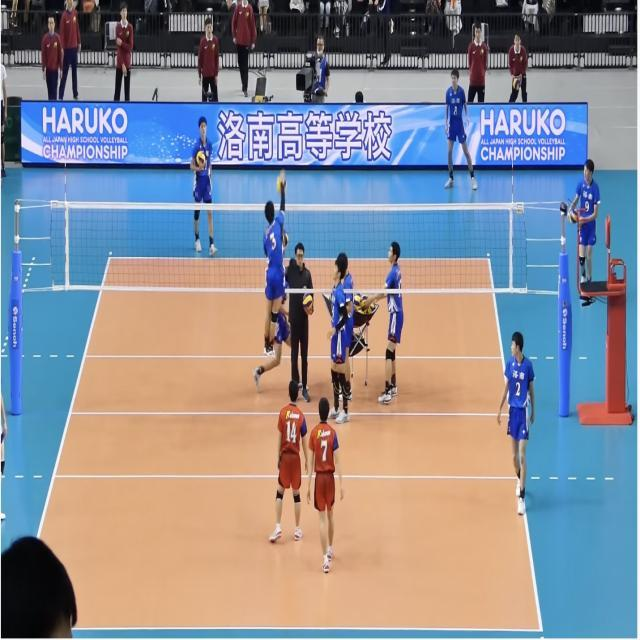spike: (257, 164, 292, 364)
